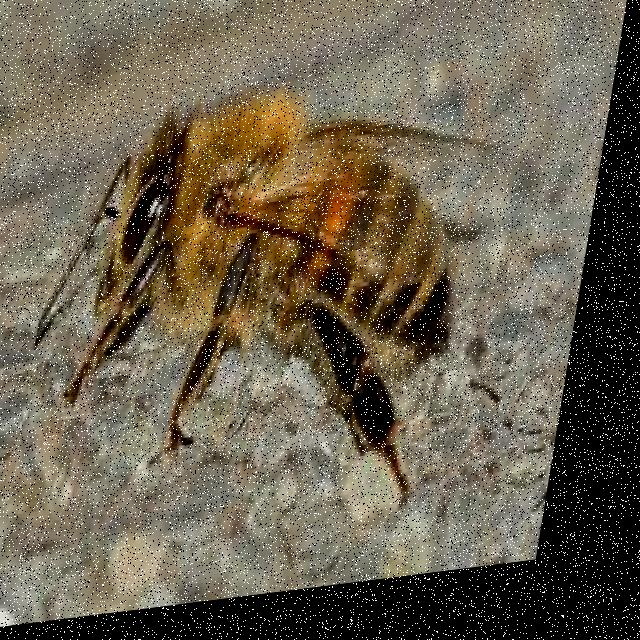Apis-mellifera-scutellata: (4, 37, 537, 556)
